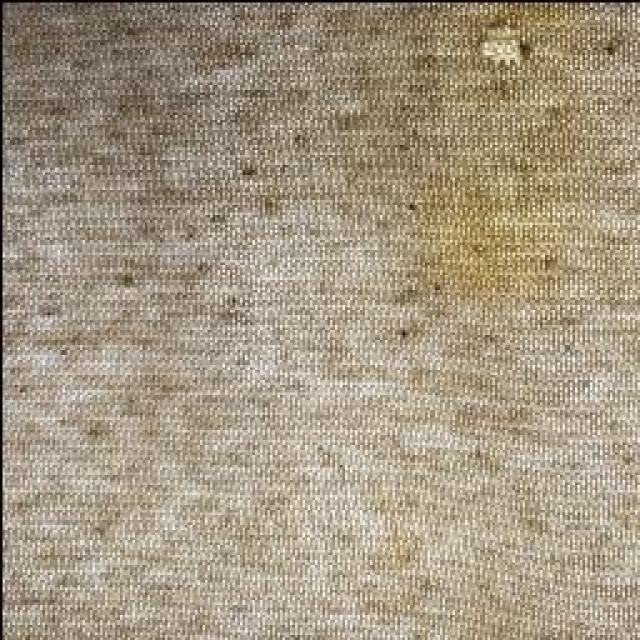seam: (446, 10, 554, 86)
